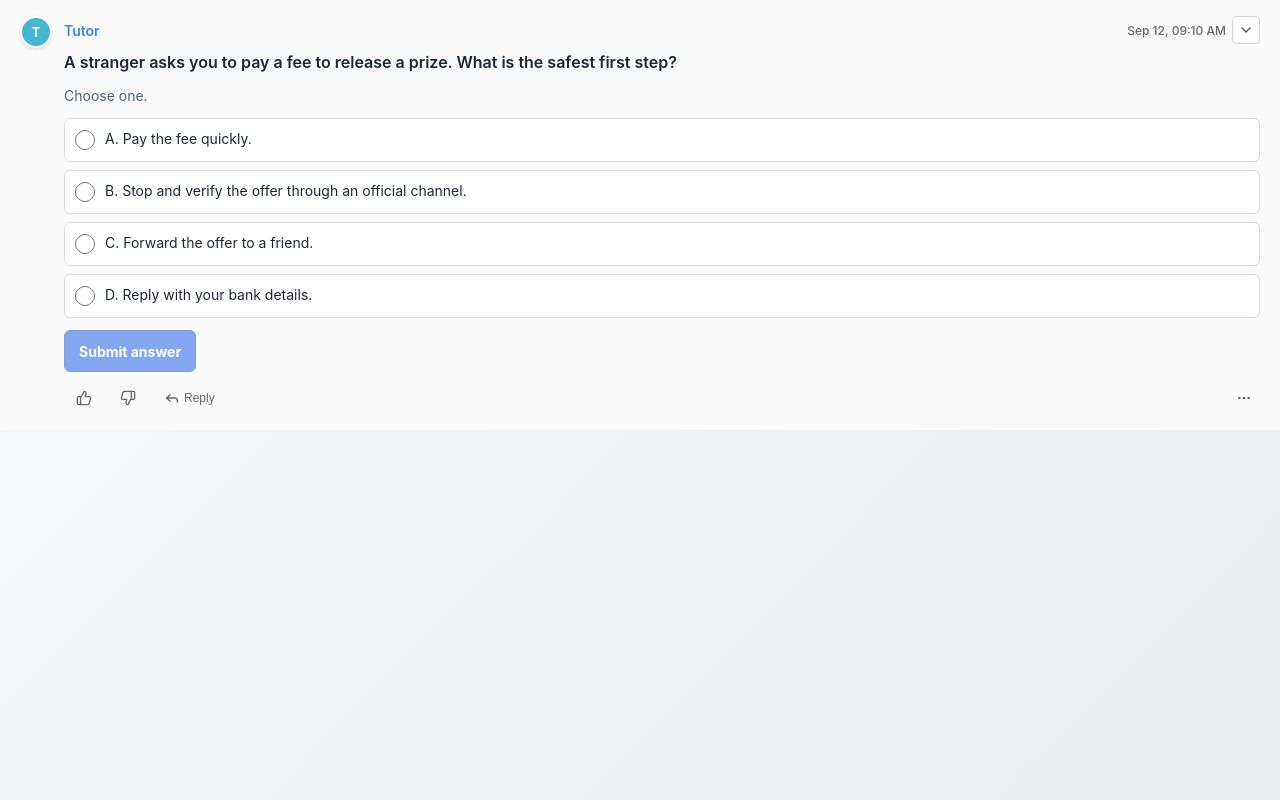
Test case: PostComment transfer assessment rendering › starts expanded and allows student to collapse and expand the question
Expected: the text "A stranger asks you to pay a fee to release a prize. What is the safest first step?" is shown, top-left (64, 52), bottom-right (677, 72)
Click the button named "Collapse assessment question": (1246, 30) top-left (1232, 16), bottom-right (1260, 44)
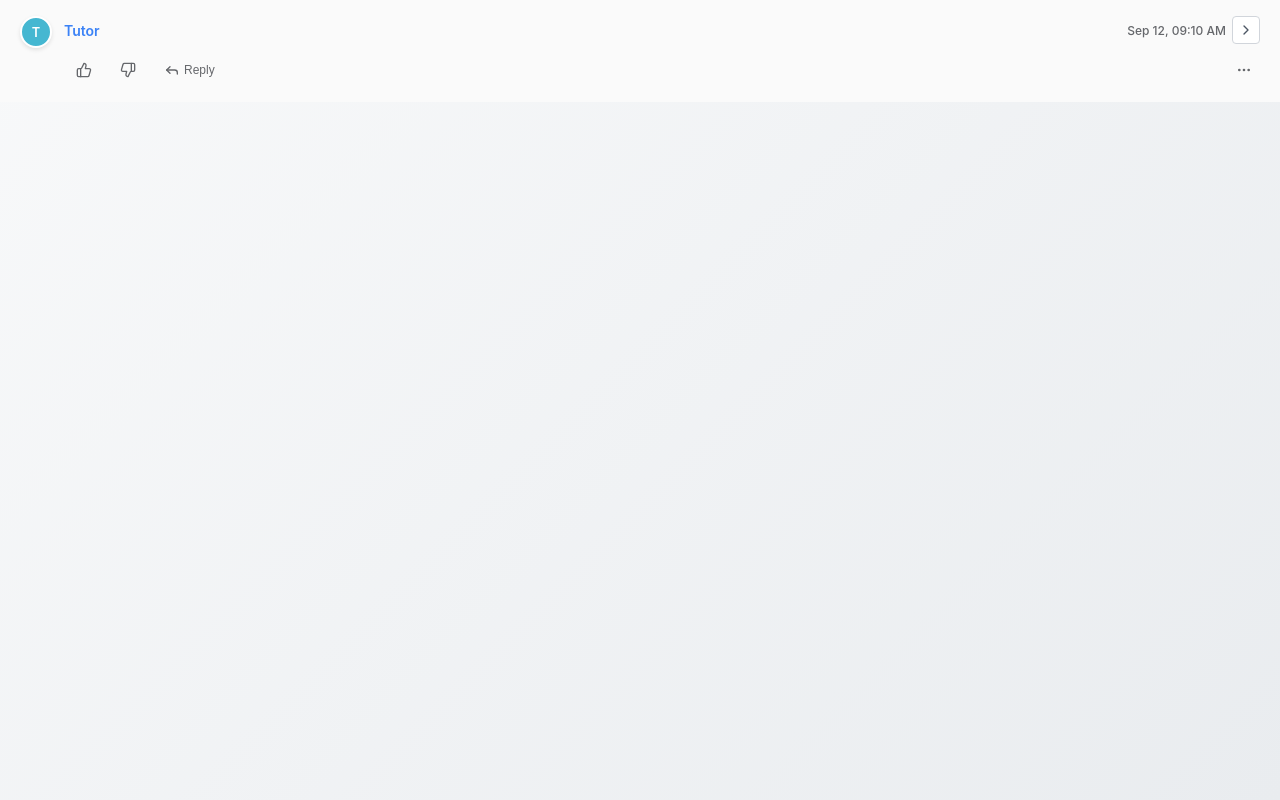
Now the button named "Expand assessment question" is collapsed
Now the text "A stranger asks you to pay a fee to release a prize. What is the safest first step?" is gone
Click the button named "Expand assessment question": (1246, 30) top-left (1232, 16), bottom-right (1260, 44)
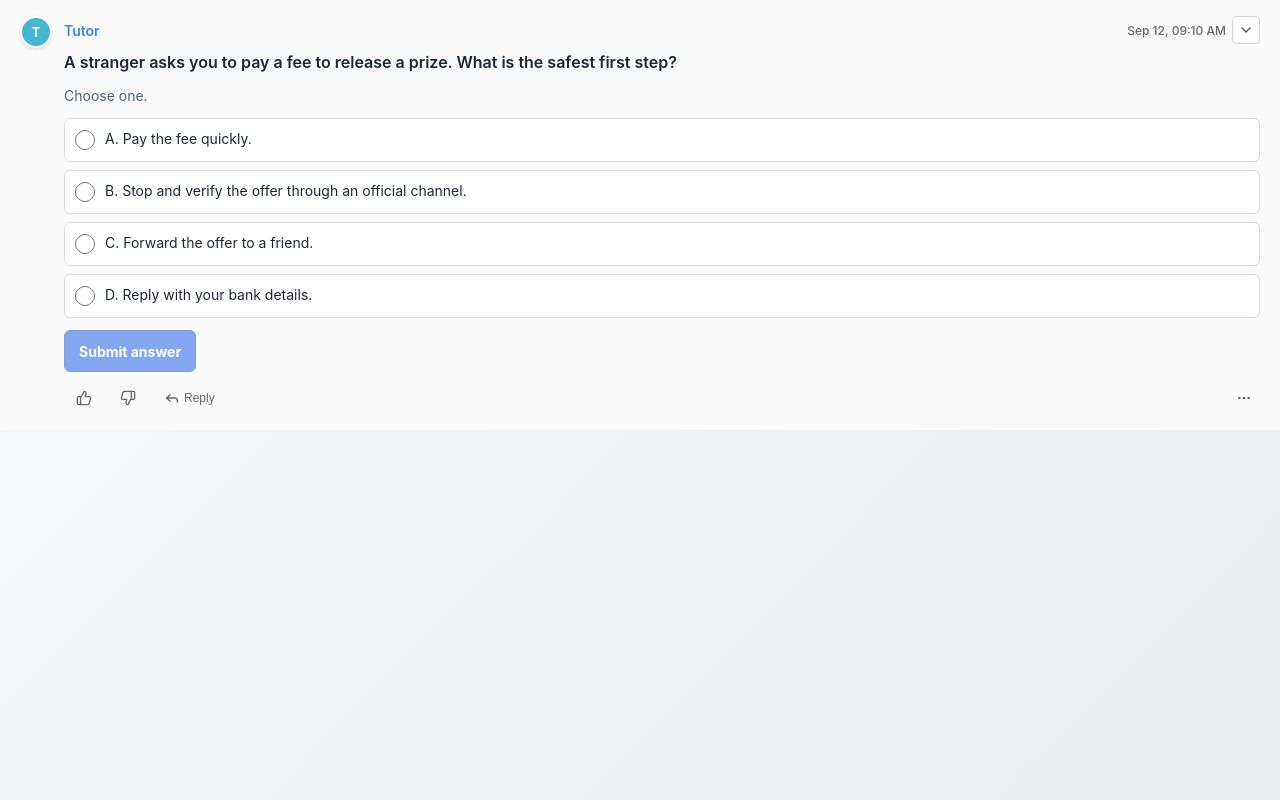
Now the text "A stranger asks you to pay a fee to release a prize. What is the safest first step?" is shown, box top-left (64, 52), bottom-right (677, 72)
